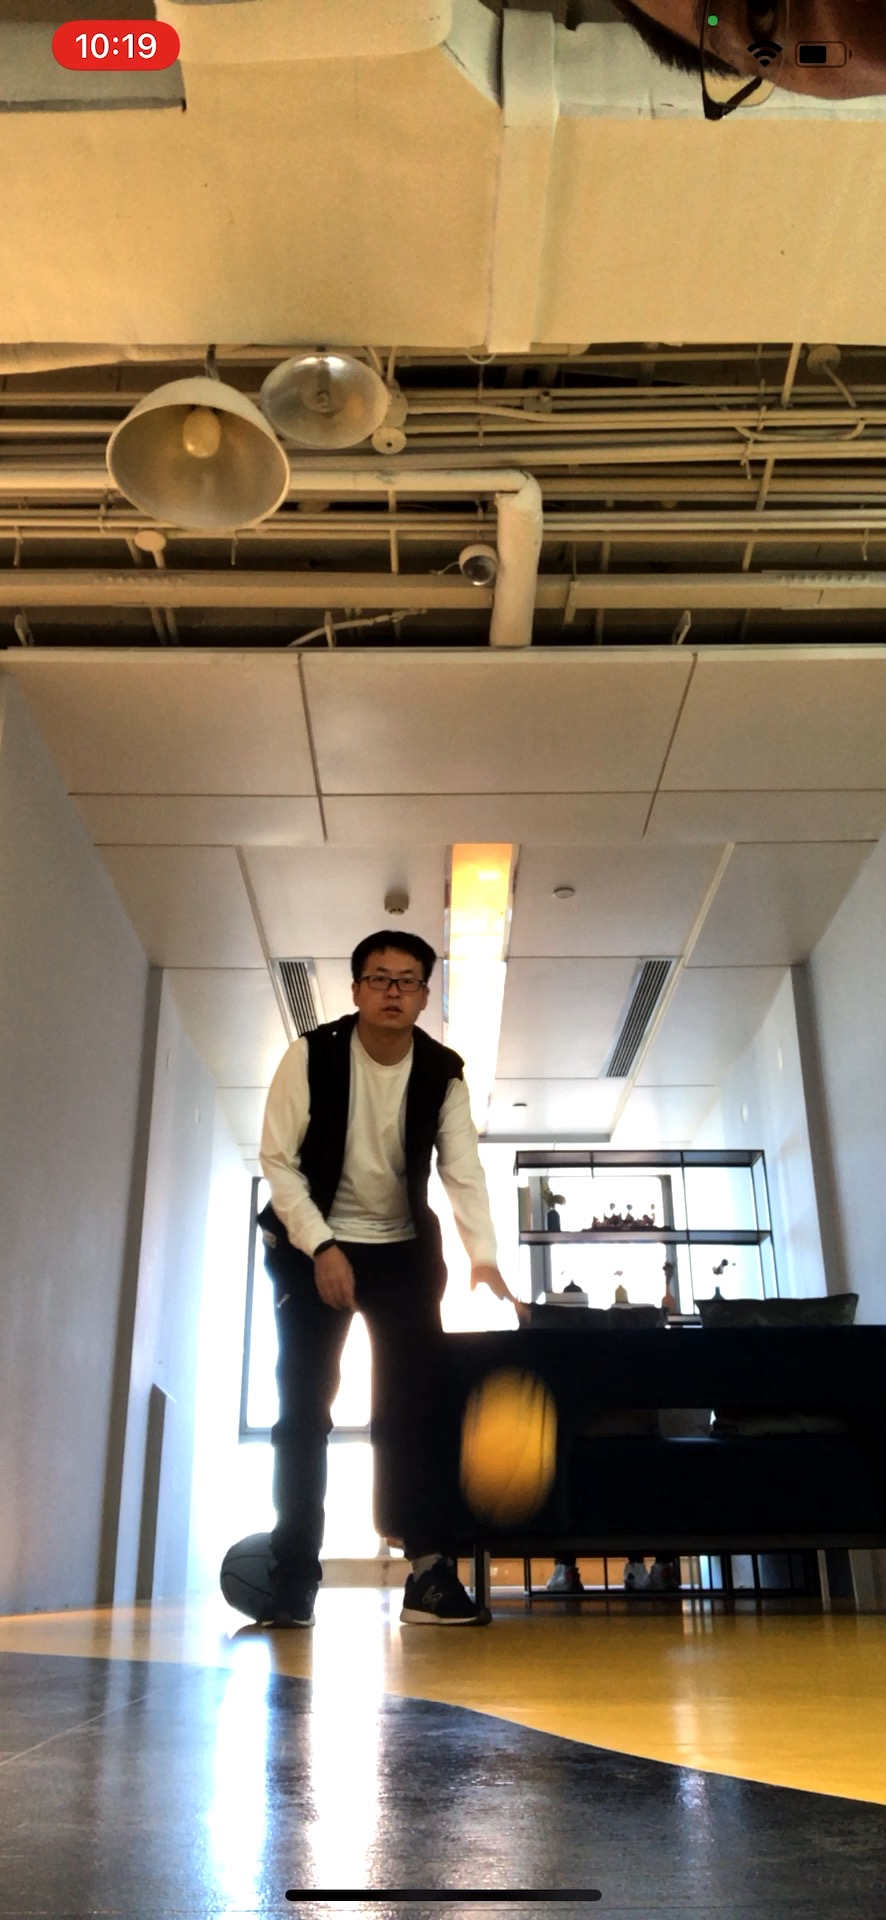ball: (452, 1374, 567, 1509), (218, 1531, 274, 1621)
